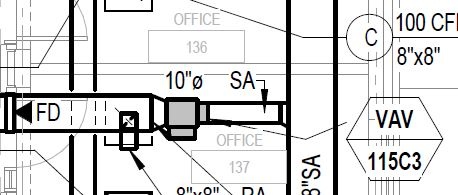VAV: (153, 91, 213, 146)
